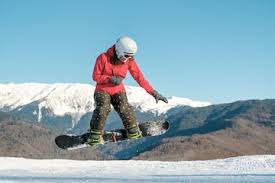snowboarder: (35, 26, 200, 158)
